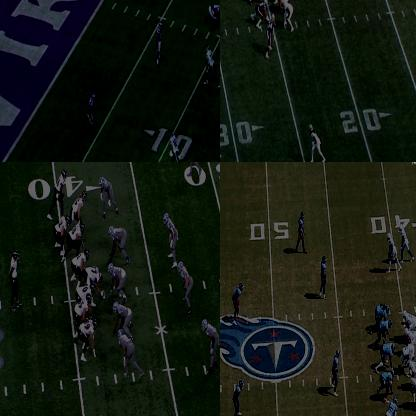CENTER: (86, 262, 104, 298), (400, 345, 413, 368)
DB: (202, 317, 219, 371), (232, 381, 243, 415), (298, 209, 306, 254), (234, 283, 242, 324), (87, 92, 96, 128), (158, 18, 165, 60), (322, 254, 328, 300), (220, 136, 227, 161), (185, 162, 199, 174)
LB: (118, 330, 141, 378), (177, 255, 194, 315), (164, 210, 180, 268), (101, 177, 116, 220), (266, 13, 277, 57), (332, 347, 342, 392), (378, 319, 395, 341), (383, 396, 398, 415)
QB: (10, 250, 18, 308)
SKILL: (53, 212, 71, 253), (53, 171, 70, 210), (82, 316, 98, 356), (309, 124, 326, 161), (72, 190, 87, 221), (207, 45, 219, 83), (387, 232, 398, 271), (400, 224, 412, 257), (169, 133, 183, 161)
